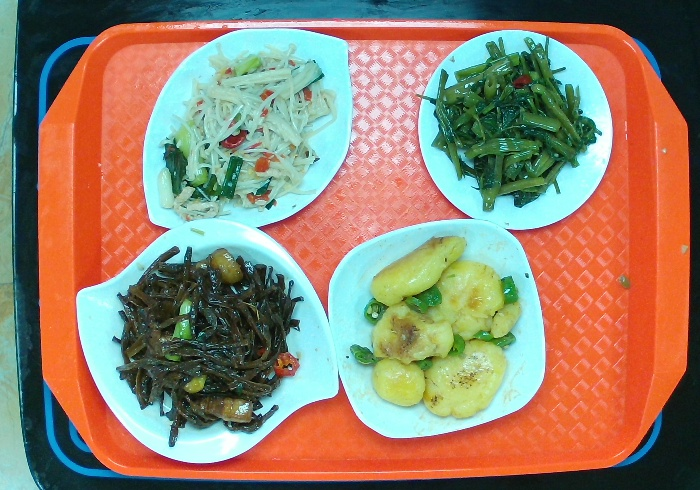RJxy-Da_Du_Pan: (137, 22, 359, 232)
RJxy-Shuang_Jiao_Pan: (64, 215, 348, 475)
RJxy-Si_Fang_Wan: (324, 212, 548, 442)
RJxy-Xiao_Yuan_Die: (411, 26, 617, 239)
